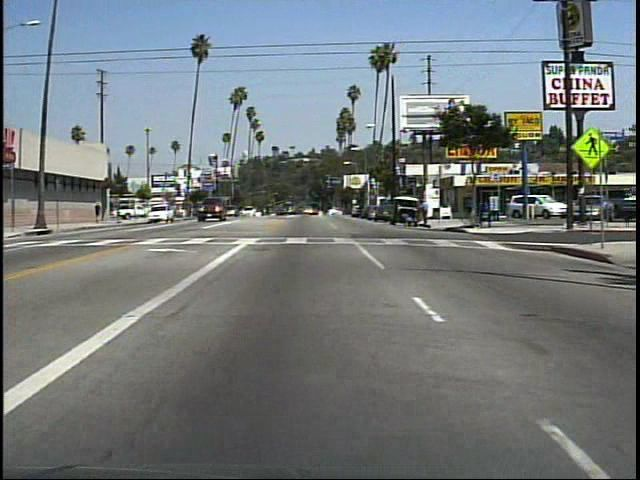person: (418, 197, 431, 229), (402, 212, 419, 230), (95, 200, 104, 226)
